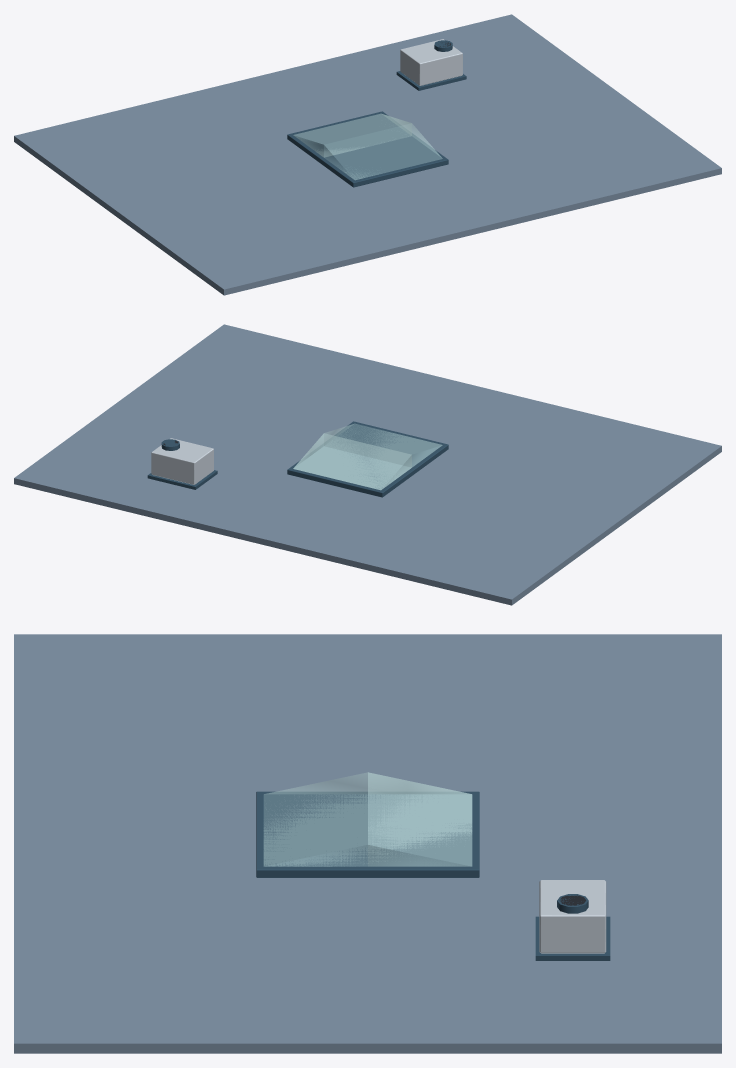
Rendered from CM_Shell_Roof_CornerStore.fbx.
3 renders of one model, top to bottom at view 1: azimuth 30°, elevation 25°; view 2: azimuth 150°, elevation 25°; view 3: azimuth 270°, elevation 25°, orthographic. The views are drawn at different scales.
Parts seen in each view (by area): view 1: Roof, Glass; view 2: Roof, Glass; view 3: Roof, Glass.
Boxes of the visible parts, x1,y1,x2,y2 form: Roof: (14,14,721,295); Glass: (293,113,442,179); Roof: (14,324,721,605); Glass: (293,424,442,490); Roof: (14,634,721,1053); Glass: (263,772,472,866).
Size of the model in its own units: 52 by 38 by 3.6.
2 materials, 2 textured.
